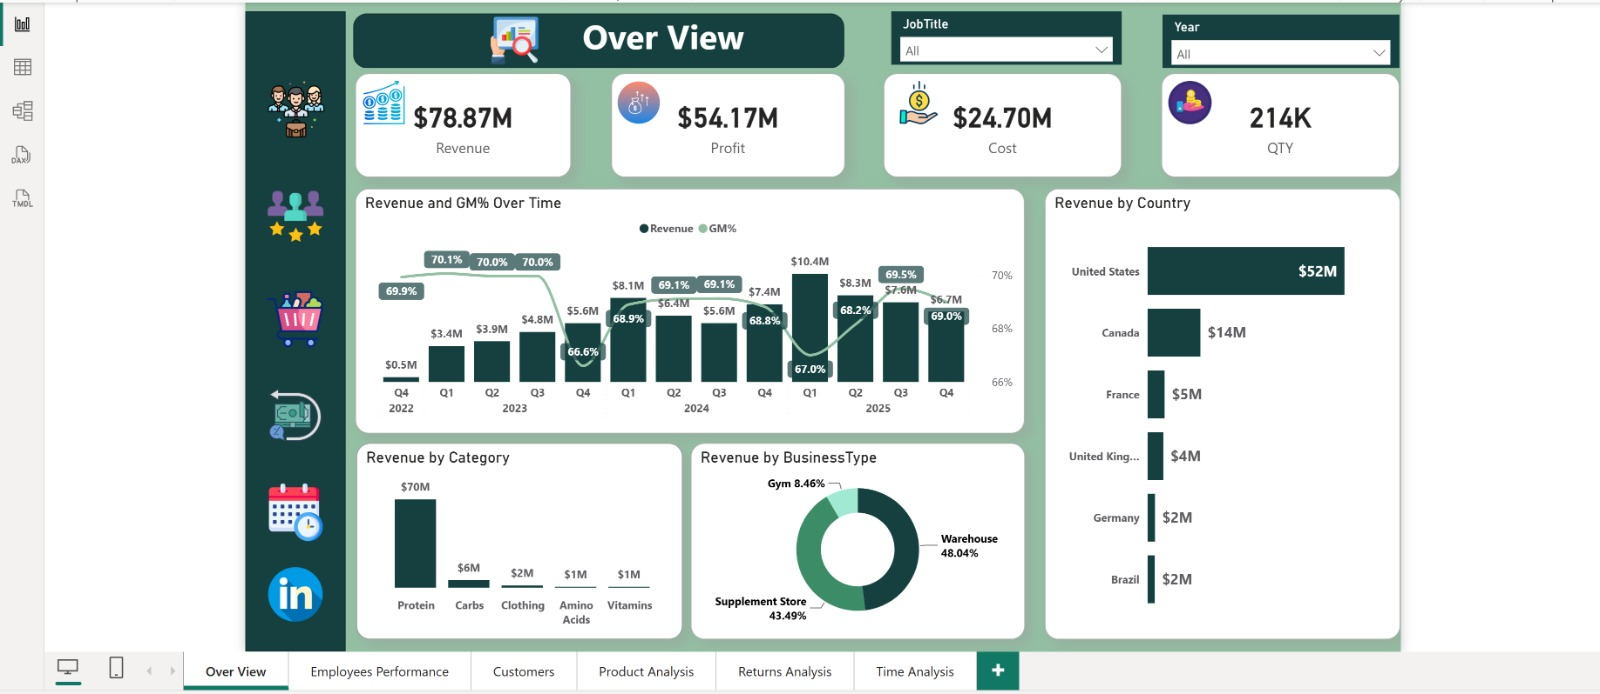

This screenshot's page, from the dashboard's own definition file:
{"tool":"powerbi","page":{"name":"Over View","canvas":[1280,720],"ordinal":0},"visuals":[{"type":"card","fields":{"Values":["Calculation.Profit"]},"box":[405,78.8,258.8,115],"z":0},{"type":"card","fields":{"Values":["Calculation.QTY"]},"box":[1015,78.8,263.8,115],"z":1000},{"type":"card","fields":{"Values":["Calculation.Revenue"]},"box":[122.4,78.8,238.8,115.3],"z":2000},{"type":"card","fields":{"Values":["Calculation.Cost"]},"box":[707.5,78.8,263.8,115],"z":3000},{"type":"lineClusteredColumnComboChart","title":"Revenue and GM% Over Time","fields":{"Category":["Date TAble.Year","Date TAble.Qurter"],"Y":["Calculation.Revenue"],"Y2":["Calculation.GM%"]},"box":[122.4,205.9,741.2,271.8],"z":4000},{"type":"clusteredBarChart","title":"Revenue by Country","fields":{"Y":["Calculation.Revenue"],"Category":["Customers.CountryName"]},"box":[885,206.2,393.8,500],"z":5000},{"type":"columnChart","title":"Revenue by Category","fields":{"Category":["Product.CategoryName"],"Y":["Calculation.Revenue"]},"box":[122.5,488.8,361.2,217.5],"z":6000},{"type":"donutChart","fields":{"Y":["Calculation.Revenue"],"Category":["Customers.BusinessType"]},"box":[493.8,488.8,370,217.5],"z":7000},{"type":"slicer","fields":{"Values":["Date TAble.Year"]},"box":[1015.7,13,262.6,59.2],"z":8000},{"type":"slicer","fields":{"Values":["Employees.JobTitle"]},"box":[715.6,10.1,255.4,59.2],"z":9000},{"type":"shape","box":[0,10.1,111.1,709.8],"z":10000},{"type":"shape","box":[119.7,11.5,543.9,60.6],"z":11000},{"type":"textbox","box":[306.3,6.5,323.4,62.4],"z":12000},{"type":"image","box":[179.4,16,236.8,52.8],"z":13000},{"type":"image","box":[4.8,206.3,101.3,61.5],"z":14000},{"type":"image","box":[405.5,87.3,60.9,48.2],"z":15000},{"type":"image","box":[715.5,87.3,60.9,48.2],"z":16000},{"type":"image","box":[1015.5,87.3,60.9,48.2],"z":17000},{"type":"image","box":[122.7,87.3,60.9,48.2],"z":18000},{"type":"image","box":[4.8,425.9,101.3,62.7],"z":19000},{"type":"image","box":[6,533.2,100.1,63.9],"z":20000},{"type":"image","box":[3.6,319.7,102.5,62.7],"z":21000},{"type":"image","box":[4.8,86.9,102.5,62.7],"z":22000},{"type":"image","box":[14.5,626.1,82,60.3],"z":23000}]}

Visuals, with their boxes on the page's 1280x720 design canvas (x1, y1, x2, y2). These are canvas units, not pixel positions in the 1600x694 screenshot, which may show the page scaled, cropped or inside an application window:
card - Calculation.Profit: bbox=(405, 79, 664, 194)
card - Calculation.QTY: bbox=(1015, 79, 1279, 194)
card - Calculation.Revenue: bbox=(122, 79, 361, 194)
card - Calculation.Cost: bbox=(708, 79, 971, 194)
"Revenue and GM% Over Time" lineClusteredColumnComboChart: bbox=(122, 206, 864, 478)
"Revenue by Country" clusteredBarChart: bbox=(885, 206, 1279, 706)
"Revenue by Category" columnChart: bbox=(122, 489, 484, 706)
donutChart - Calculation.Revenue x Customers.BusinessType: bbox=(494, 489, 864, 706)
slicer - Date TAble.Year: bbox=(1016, 13, 1278, 72)
slicer - Employees.JobTitle: bbox=(716, 10, 971, 69)
shape: bbox=(0, 10, 111, 720)
shape: bbox=(120, 12, 664, 72)
textbox: bbox=(306, 6, 630, 69)
image: bbox=(179, 16, 416, 69)
image: bbox=(5, 206, 106, 268)
image: bbox=(406, 87, 466, 136)
image: bbox=(716, 87, 776, 136)
image: bbox=(1016, 87, 1076, 136)
image: bbox=(123, 87, 184, 136)
image: bbox=(5, 426, 106, 489)
image: bbox=(6, 533, 106, 597)
image: bbox=(4, 320, 106, 382)
image: bbox=(5, 87, 107, 150)
image: bbox=(14, 626, 96, 686)
